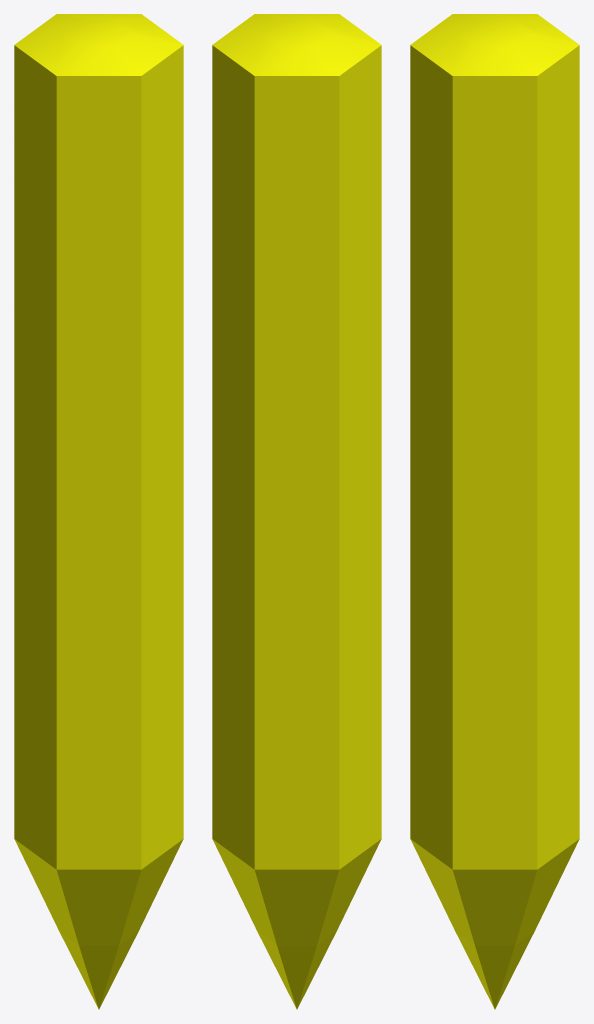
The model's file is kaykit-pencil-a-long.glb.
3 renders of one model, left to right at view 1: azimuth 30°, elevation 25°; view 2: azimuth 150°, elevation 25°; view 3: azimuth 270°, elevation 25°, orthographic.
Visible parts, largest first — view 1: pencil_A_long; view 2: pencil_A_long; view 3: pencil_A_long.
Boxes of the visible parts, box(x1,y1,x2,y2) form: pencil_A_long: box(14, 14, 183, 1009); pencil_A_long: box(212, 14, 381, 1009); pencil_A_long: box(410, 14, 579, 1009).
Bounding box in the file's own units: 0.0861 × 0.6312 × 0.0994.
